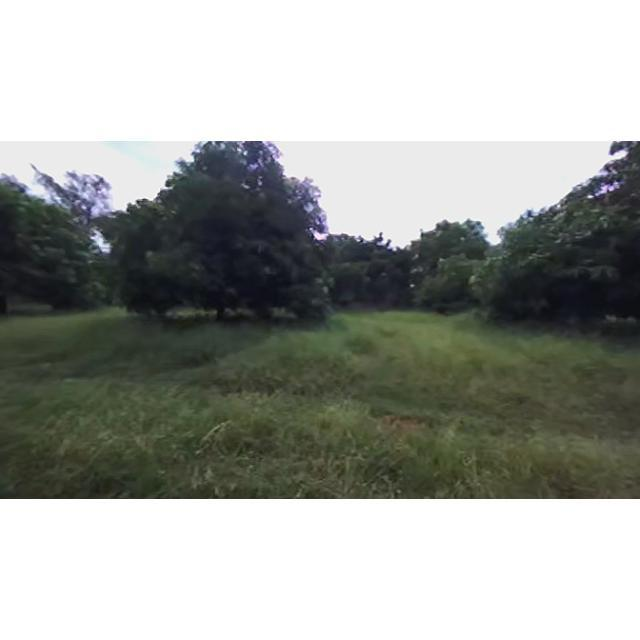tree: (108, 142, 346, 324), (472, 146, 640, 326), (1, 172, 107, 320), (27, 151, 114, 311), (396, 215, 500, 318), (308, 230, 410, 314)
